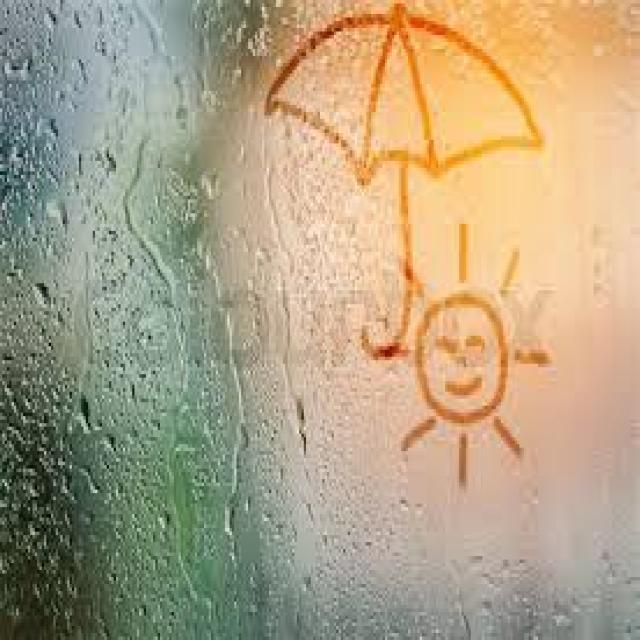raindrop: (38, 185, 77, 252), (30, 270, 59, 332), (74, 390, 102, 442)
